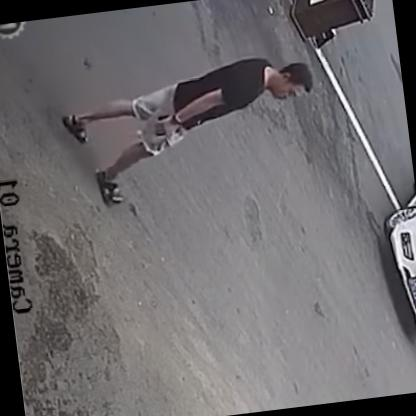Human Body: (53, 47, 328, 216)
